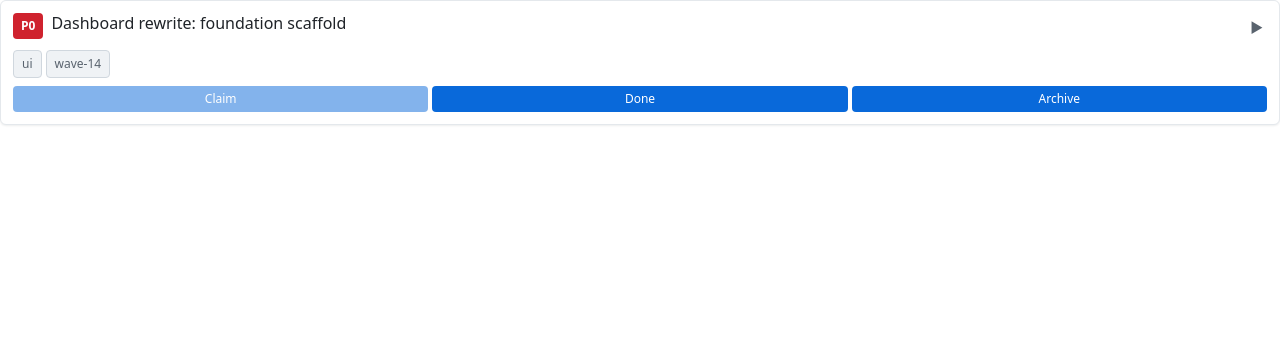
Test case: TrackerCard › shows expand/collapse button and toggles details on click
This screenshot has width=1280, height=353.
Expected: the text "Created" is not shown
What coordinates should you click on to do the following:
click the button named "expand"
I would click on:
 (1257, 28)
Its box is top-left (1246, 13), bottom-right (1267, 42).
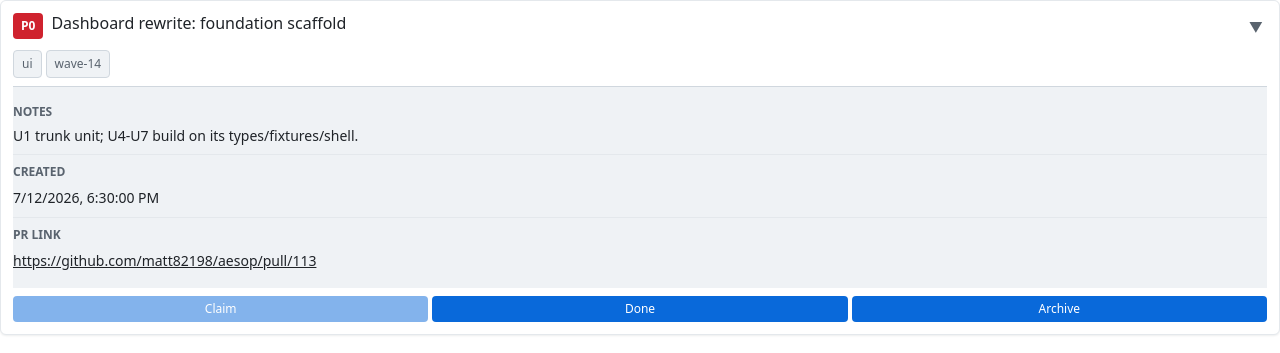
Now the button named "expand" is expanded, box top-left (1245, 13), bottom-right (1267, 42)
Now the text "Created" is shown, box top-left (13, 163), bottom-right (65, 180)
